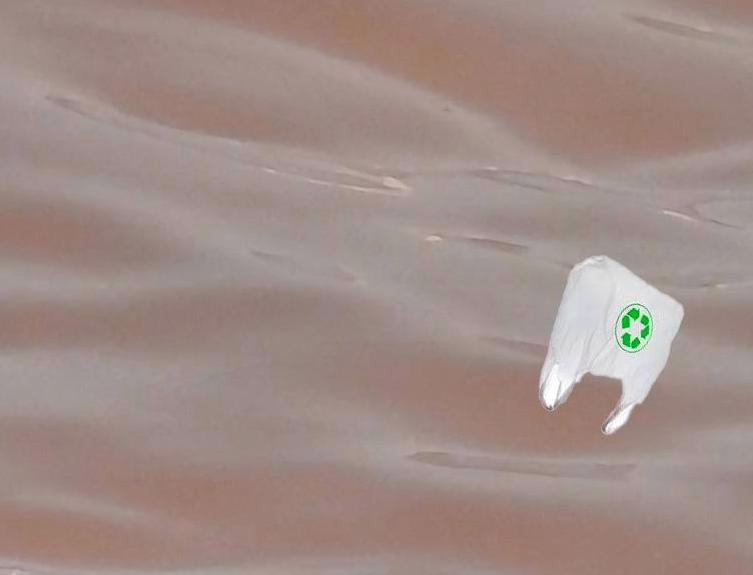Trash: (538, 256, 687, 436)
